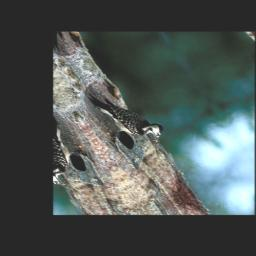Woodpecker: (86, 75, 171, 156)
